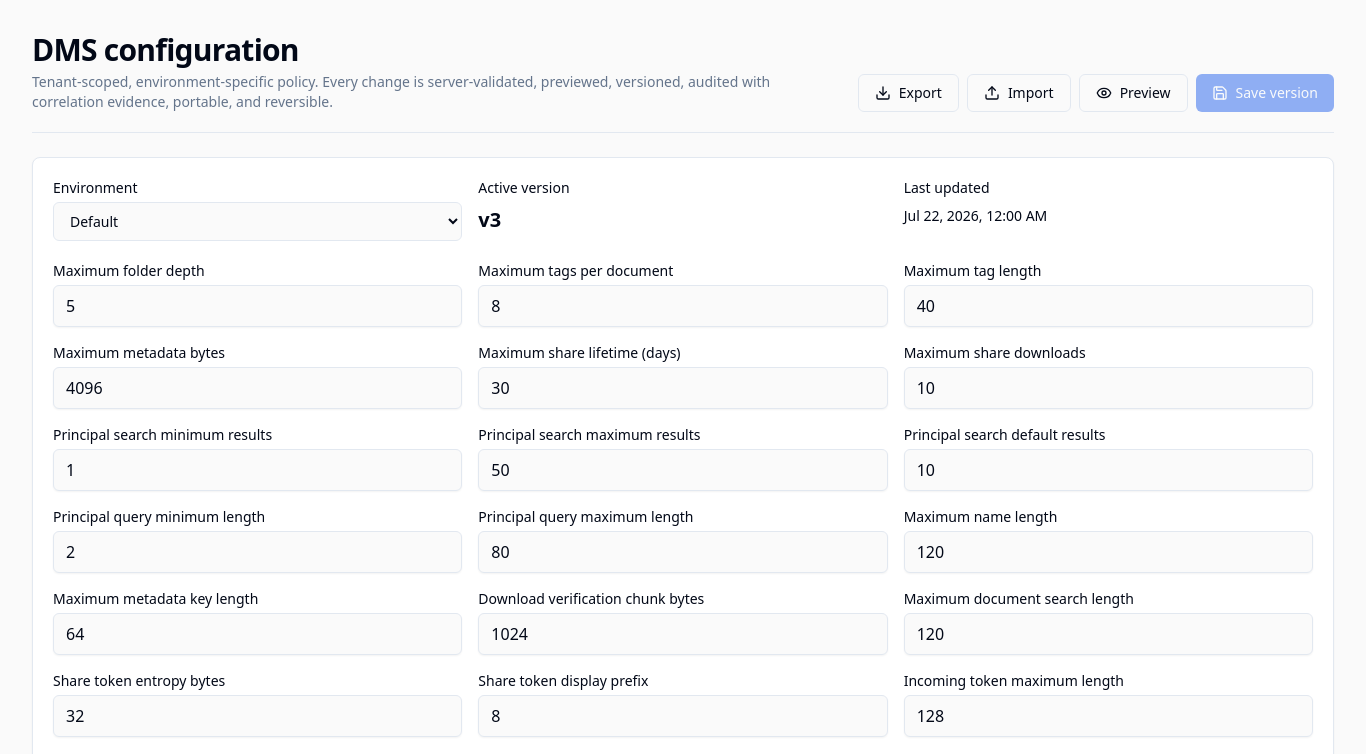
Test: DmsConfigurationPage › surfaces preview mutation failures and keeps save disabled
Replace the text in the number field labelled "Maximum folder depth" with "6". click: {"x": 258, "y": 306}
box: [53, 285, 462, 327]
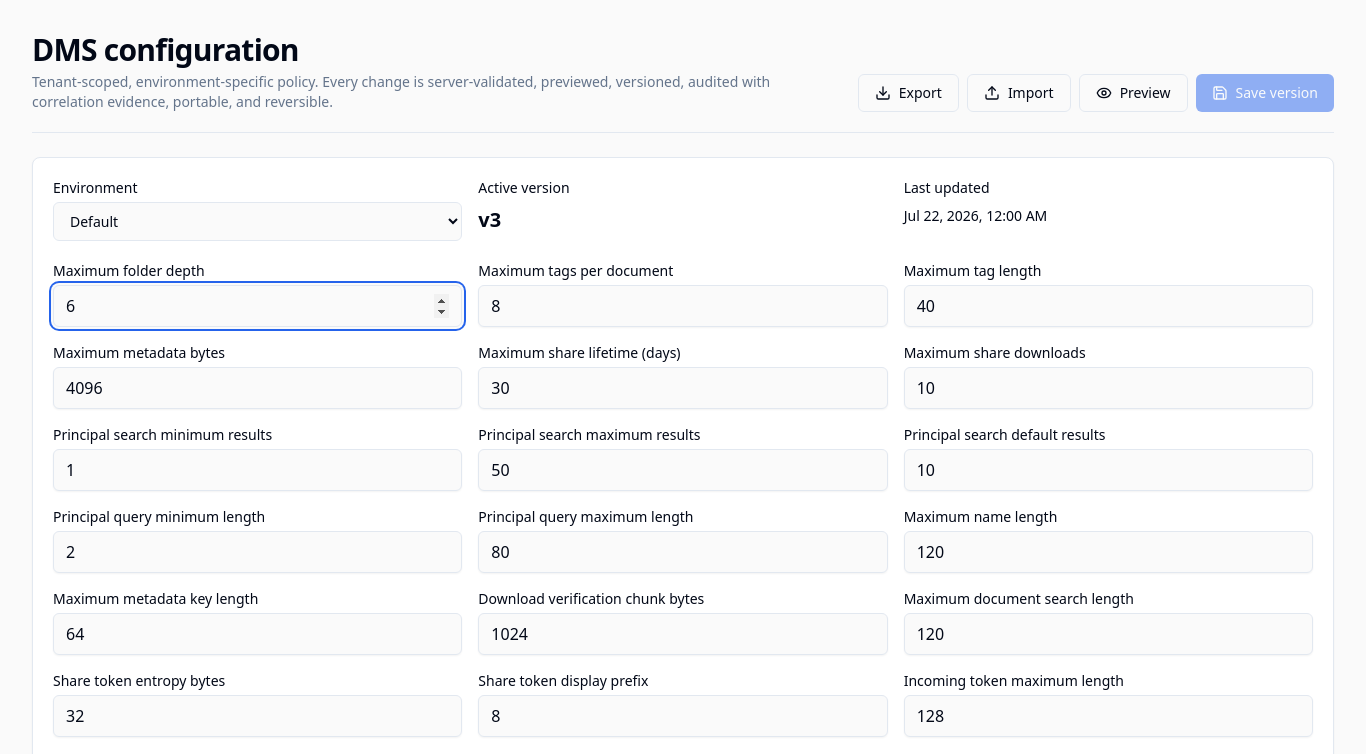
Click the button "Preview". click: {"x": 1133, "y": 93}
box: [1079, 74, 1188, 112]
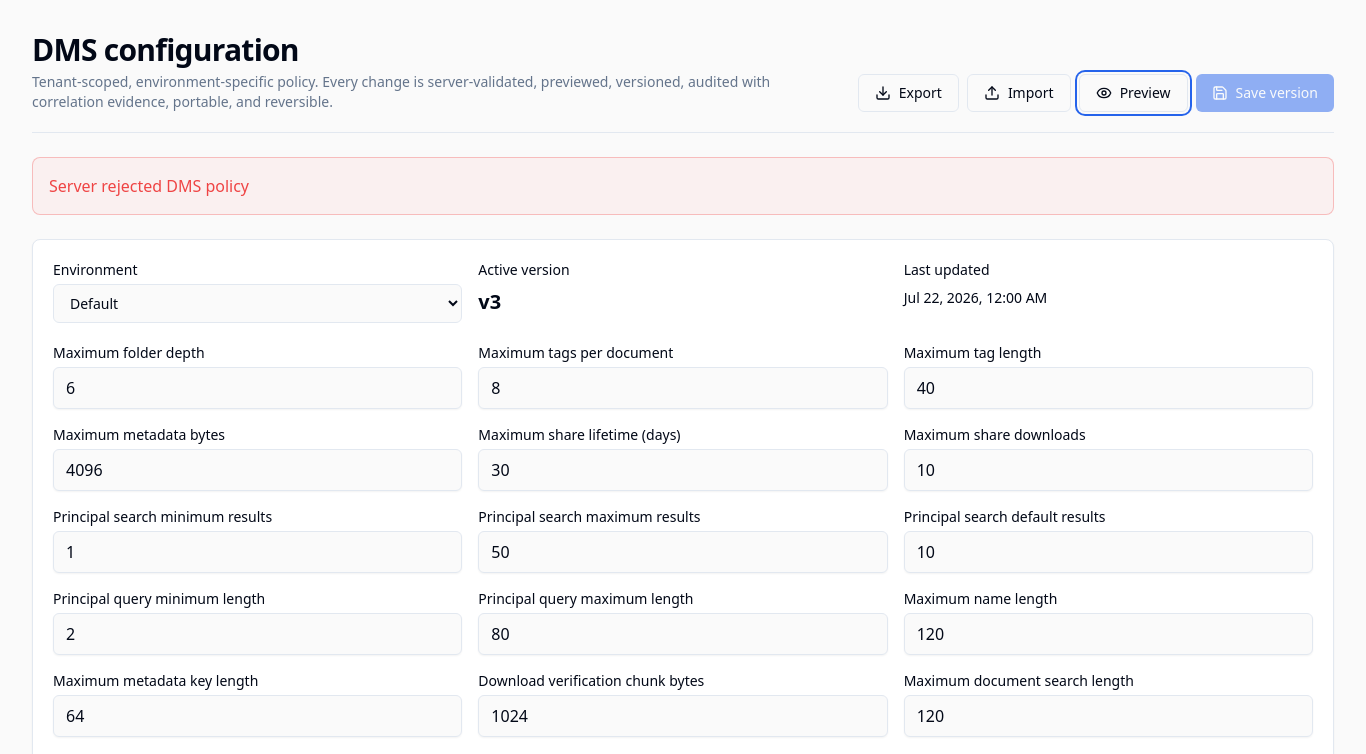
Expected: the button "Save version" is disabled, [1196, 74, 1334, 112]
Result: the text "Server rejected DMS policy" is shown at [49, 175, 249, 197]
